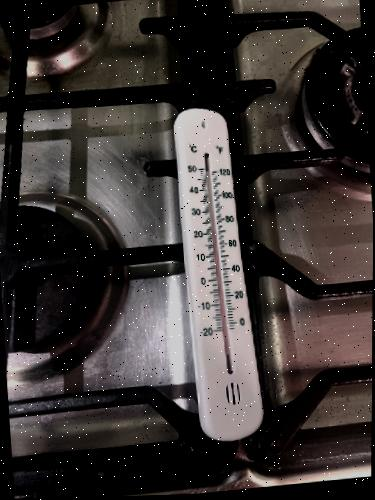thermo: (173, 106, 264, 435)
